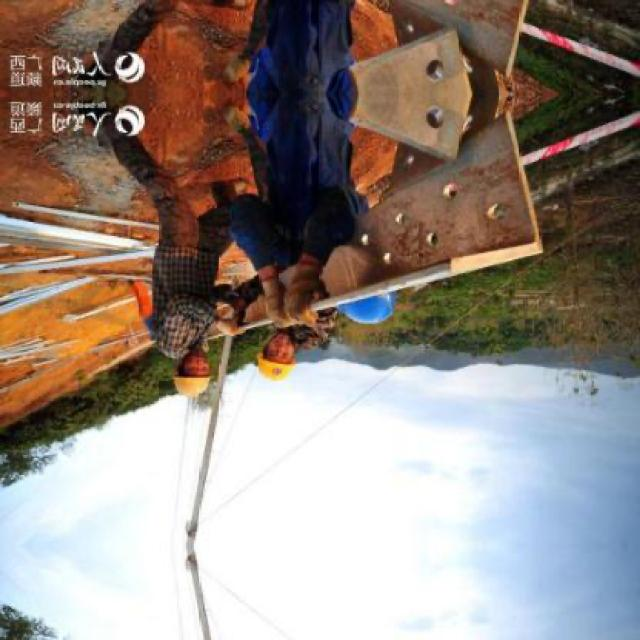con casco: (122, 334, 218, 402), (244, 331, 336, 395)
